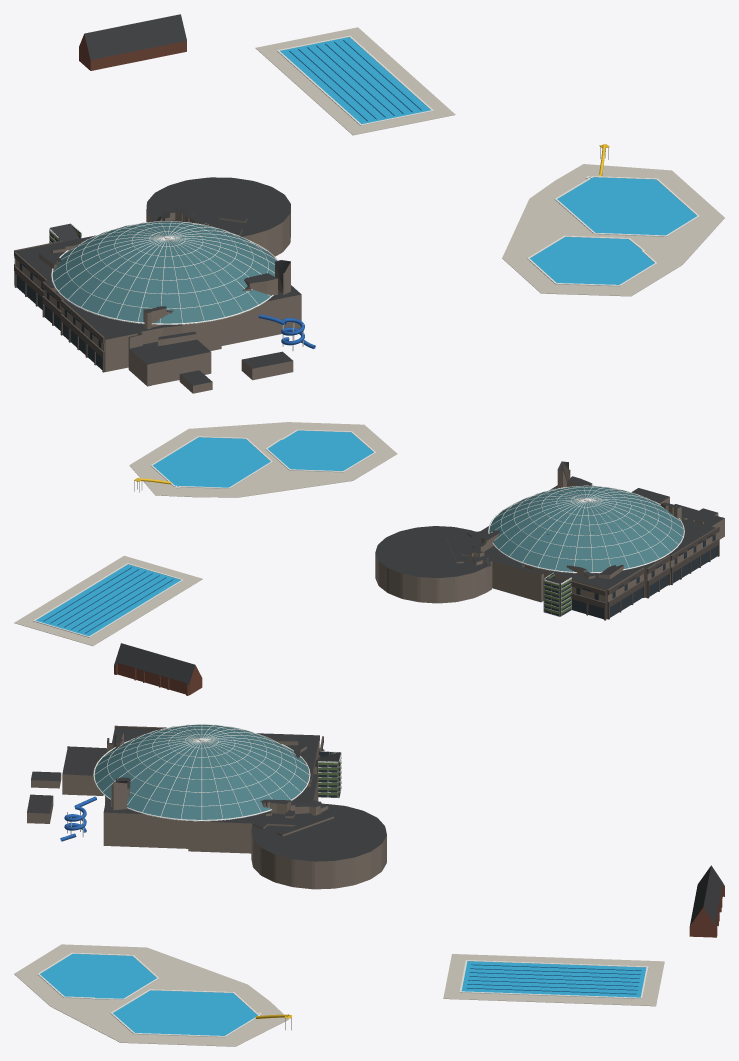
The model's file is de-mirandabad.glb.
The picture shows the model from 3 angles, top to bottom: view 1: azimuth 30°, elevation 25°; view 2: azimuth 150°, elevation 25°; view 3: azimuth 270°, elevation 25°; orthographic projection. The views are drawn at different scales.
Visible parts, largest first — view 1: de-mirandabad; view 2: de-mirandabad; view 3: de-mirandabad.
Boxes of the visible parts, x1=… form: de-mirandabad: x1=14, y1=14, x2=724, y2=393; de-mirandabad: x1=14, y1=422, x2=724, y2=695; de-mirandabad: x1=14, y1=724, x2=724, y2=1046.
Bounding box in the file's own units: 192 × 21.52 × 200.
